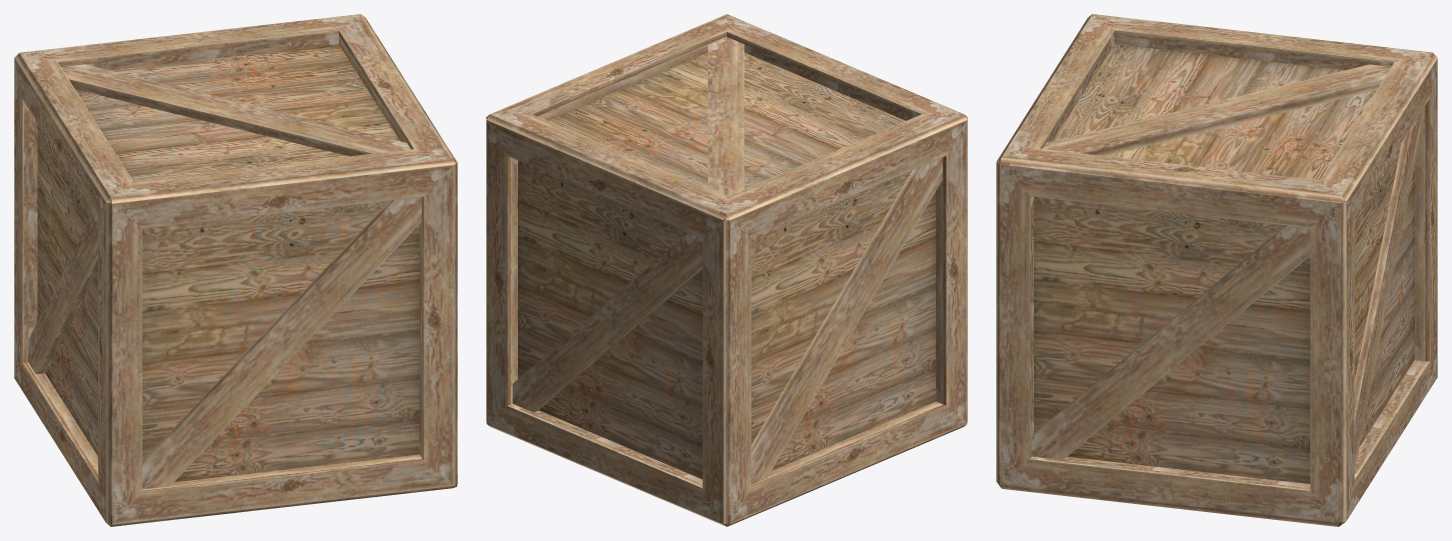
The model's file is pallettebox015_woodbox_dm_0_lev1.glb.
The picture shows the model from 3 angles, left to right: view 1: azimuth 30°, elevation 25°; view 2: azimuth 150°, elevation 25°; view 3: azimuth 270°, elevation 25°; orthographic projection. The views are drawn at different scales.
Visible parts, largest first — view 1: pallettebox015_woodbox_dm_0_lev1; view 2: pallettebox015_woodbox_dm_0_lev1; view 3: pallettebox015_woodbox_dm_0_lev1.
Boxes of the visible parts, x1=… form: pallettebox015_woodbox_dm_0_lev1: x1=14, y1=14, x2=457, y2=526; pallettebox015_woodbox_dm_0_lev1: x1=486, y1=14, x2=967, y2=526; pallettebox015_woodbox_dm_0_lev1: x1=996, y1=14, x2=1437, y2=526.
Size of the model in its own units: 0.9777 by 0.803 by 0.9777.
1 material, 1 textured.
